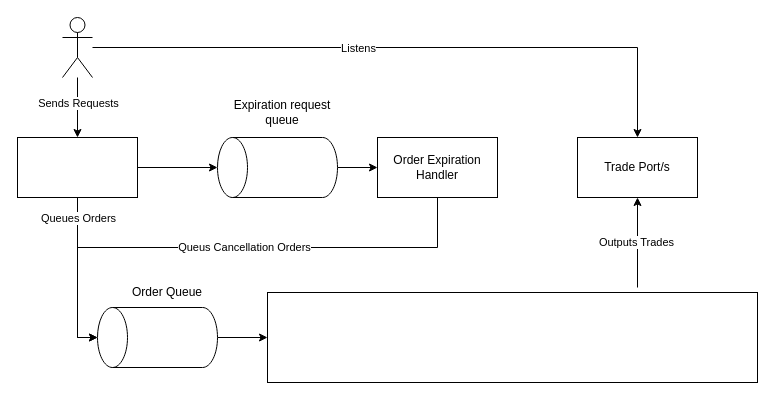
Image size: 775x400. Some labels were removed from this diagram. The centre of each missing label's shape, as x and y in pixels:
API Gateway: [77,167]
Order Matching Engine: [512,337]
